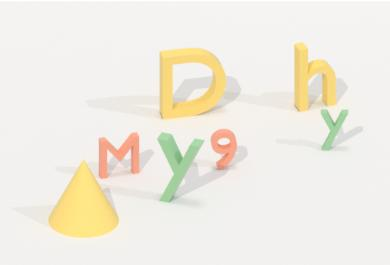0-TamGiac: (47, 160, 123, 242)
9: (207, 124, 241, 174)
D: (155, 43, 230, 122)
M: (96, 130, 143, 182)
h: (291, 36, 339, 114)
y: (152, 129, 206, 206), (317, 105, 351, 153)
